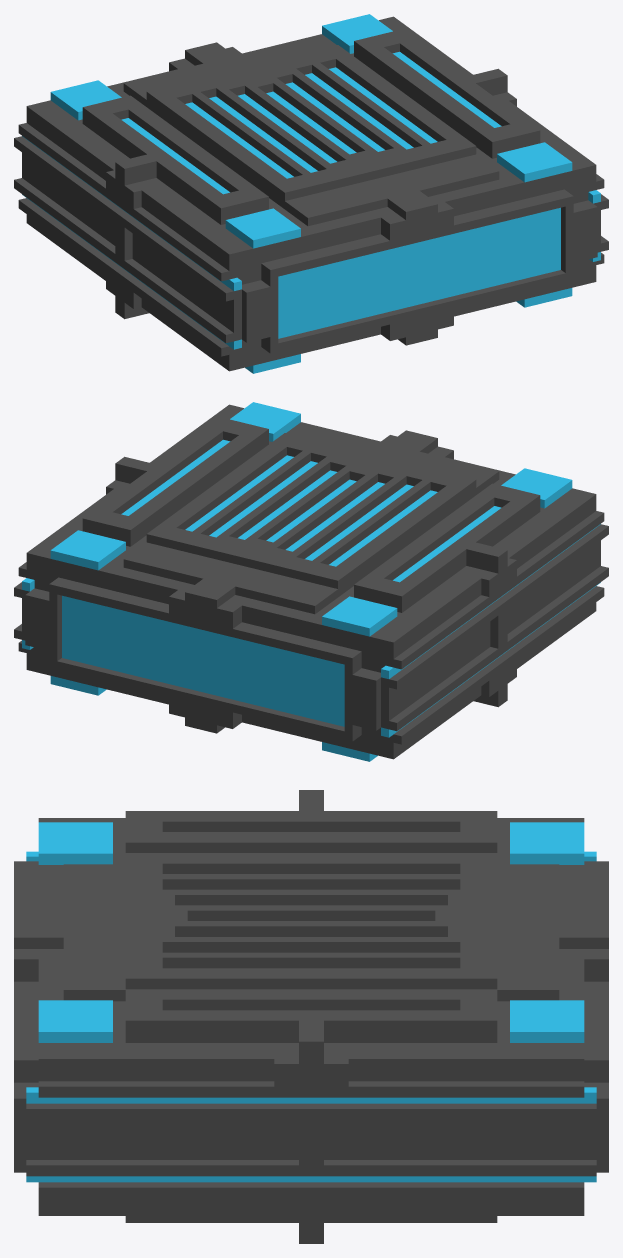
Rendered from alien_saucer2c.fbx.
3 views of the same model, one above another, from view 1: azimuth 30°, elevation 25°; view 2: azimuth 150°, elevation 25°; view 3: azimuth 270°, elevation 25° (orthographic). The views are drawn at different scales.
Parts seen in each view (by area): view 1: alien_saucer2c; view 2: alien_saucer2c; view 3: alien_saucer2c.
Part boxes in pixels (x1,y1,x2,y2): alien_saucer2c: [14, 14, 608, 373]; alien_saucer2c: [14, 402, 608, 761]; alien_saucer2c: [14, 790, 608, 1243].
Size of the model in its own units: 4.8 by 4.8 by 1.8.
1 material, 1 textured.
